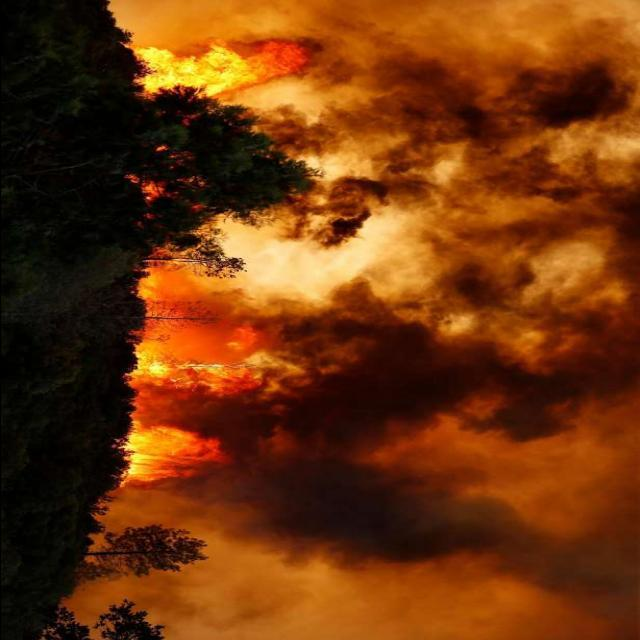Fire: (116, 31, 332, 499)
